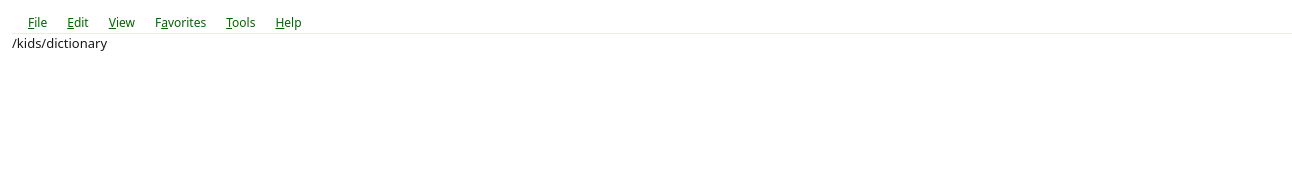
Test case: Kids menu bar › cascades with the keyboard: Right opens, Left closes, Enter activates
This screenshot has width=1292, height=172.
Press ArrowDown in the button "View", box [99,13,145,32]
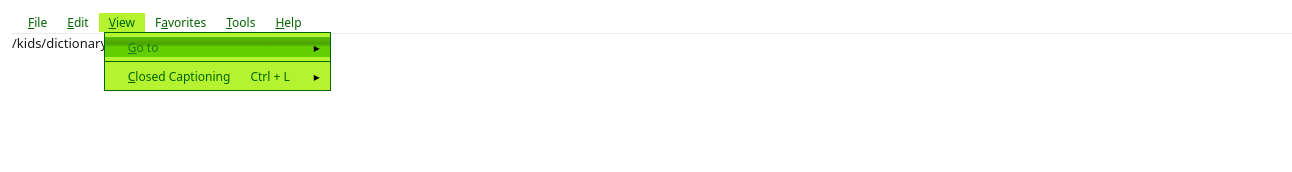
Press ArrowDown in the menu item "Go to ▸", box [105,37,330,57]
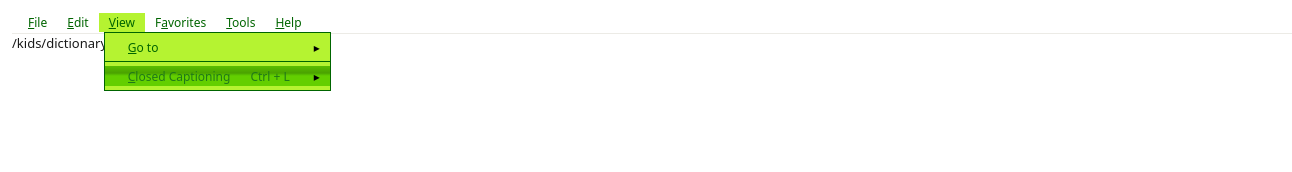
Press ArrowRight in the menu item "Closed Captioning Ctrl + L ▸", box [105,66,330,86]
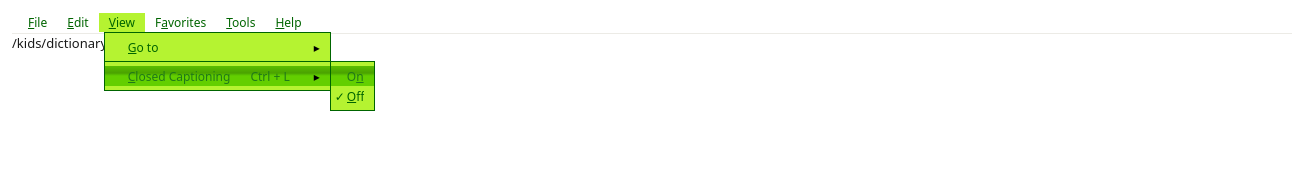
Press ArrowLeft in the menu item "On", box [331,66,374,86]
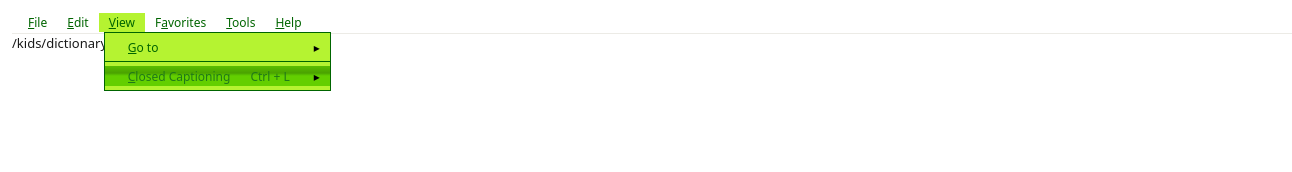
Press ArrowRight in the menu item "Closed Captioning Ctrl + L ▸", box [105,66,330,86]
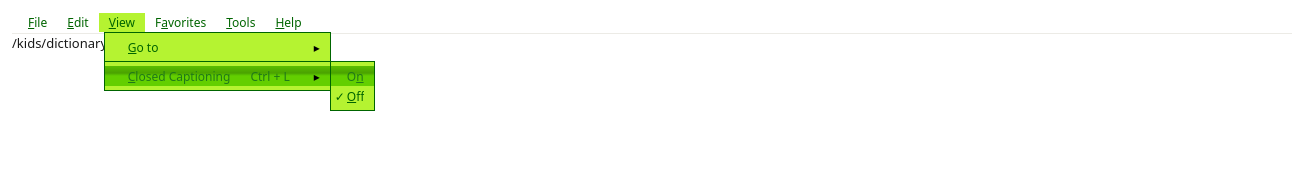
Click the menu item "On": x=353, y=76 [331,66,374,86]
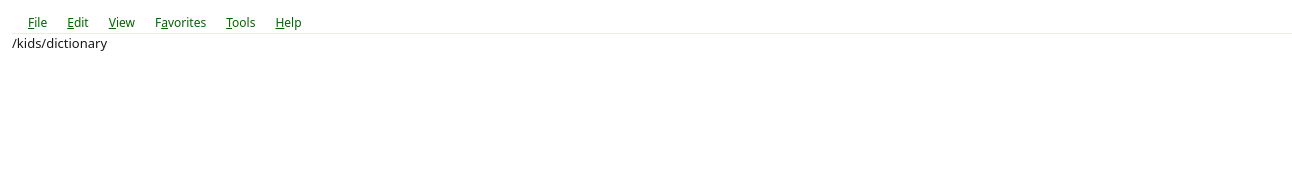
Now the menu is gone
